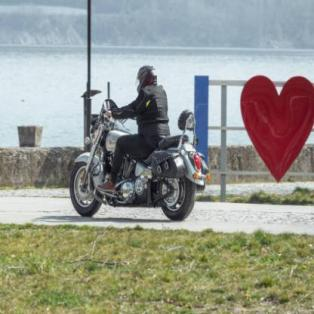Motocicleta: (66, 96, 206, 224)
